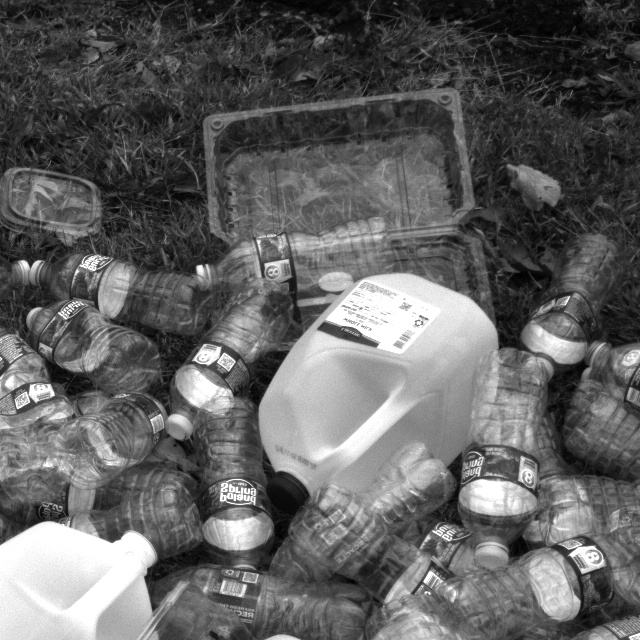bottle: (452, 339, 561, 573), (274, 446, 440, 586), (430, 531, 640, 640), (162, 304, 287, 449), (189, 212, 398, 298), (515, 227, 624, 383), (0, 462, 194, 549), (195, 386, 273, 581), (23, 290, 163, 397), (54, 257, 221, 332)
can: (253, 266, 496, 516), (0, 512, 156, 640)
container: (202, 80, 484, 307), (0, 167, 112, 244)
